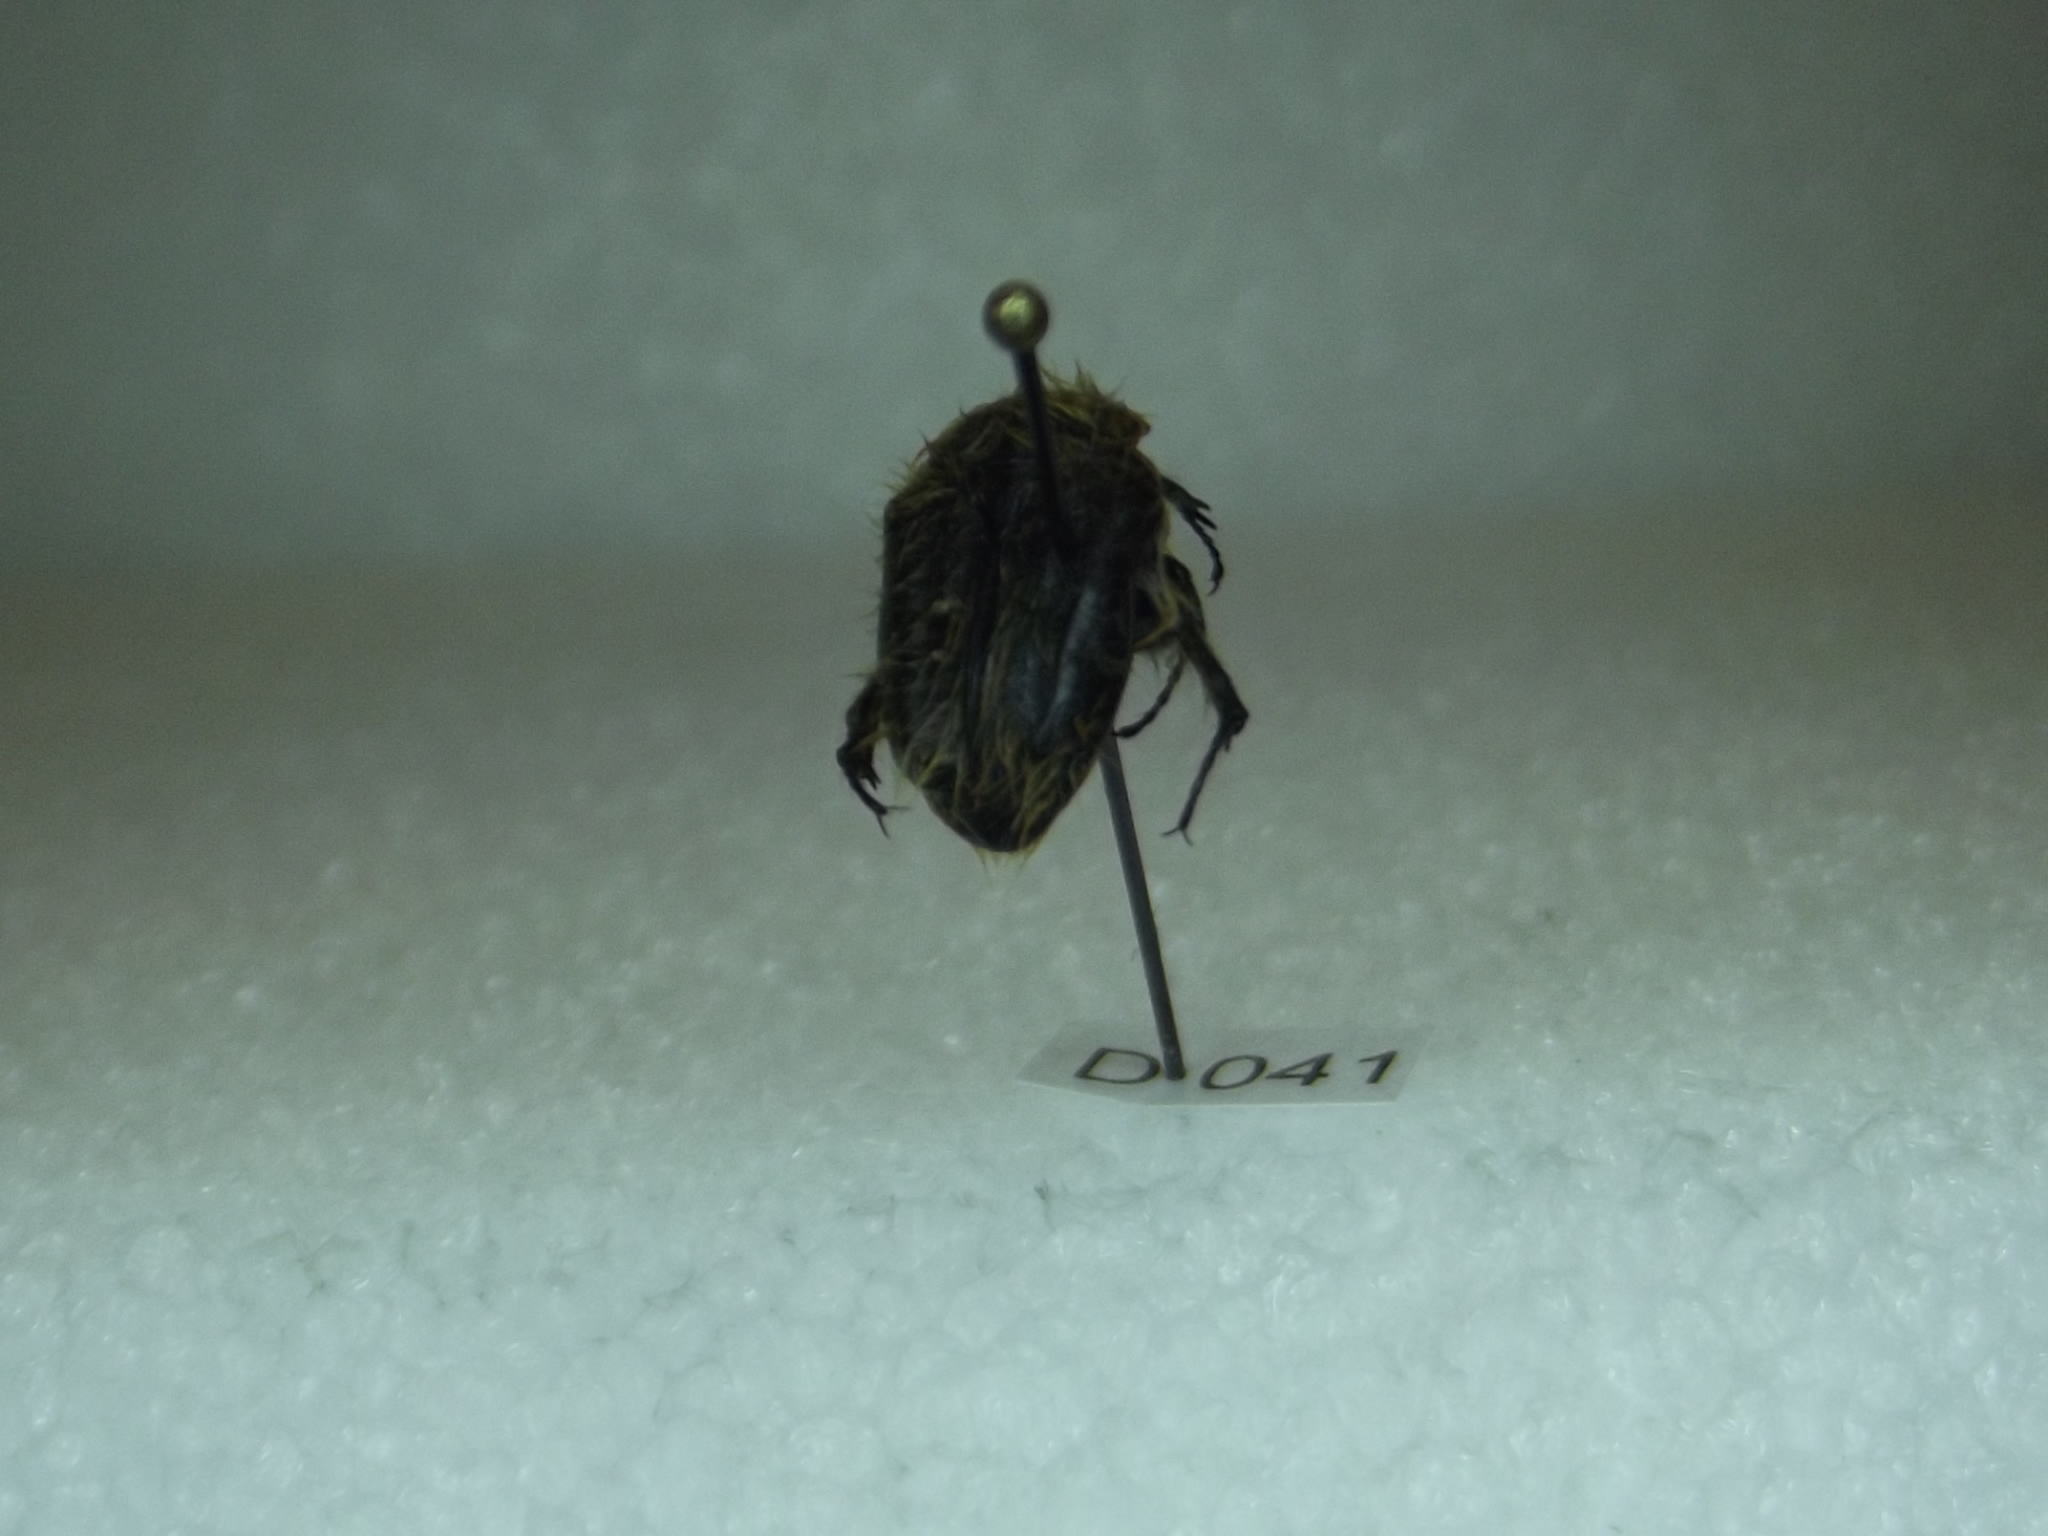Tropinota_senicula: (801, 358, 1274, 887)
